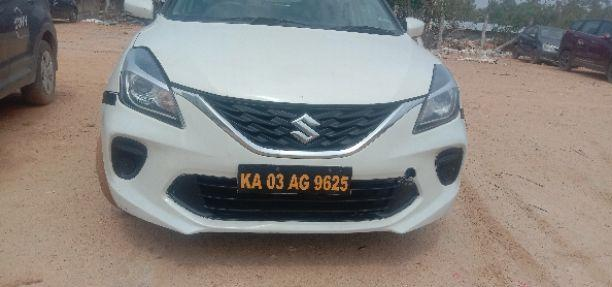license_plate: (236, 163, 352, 197)
